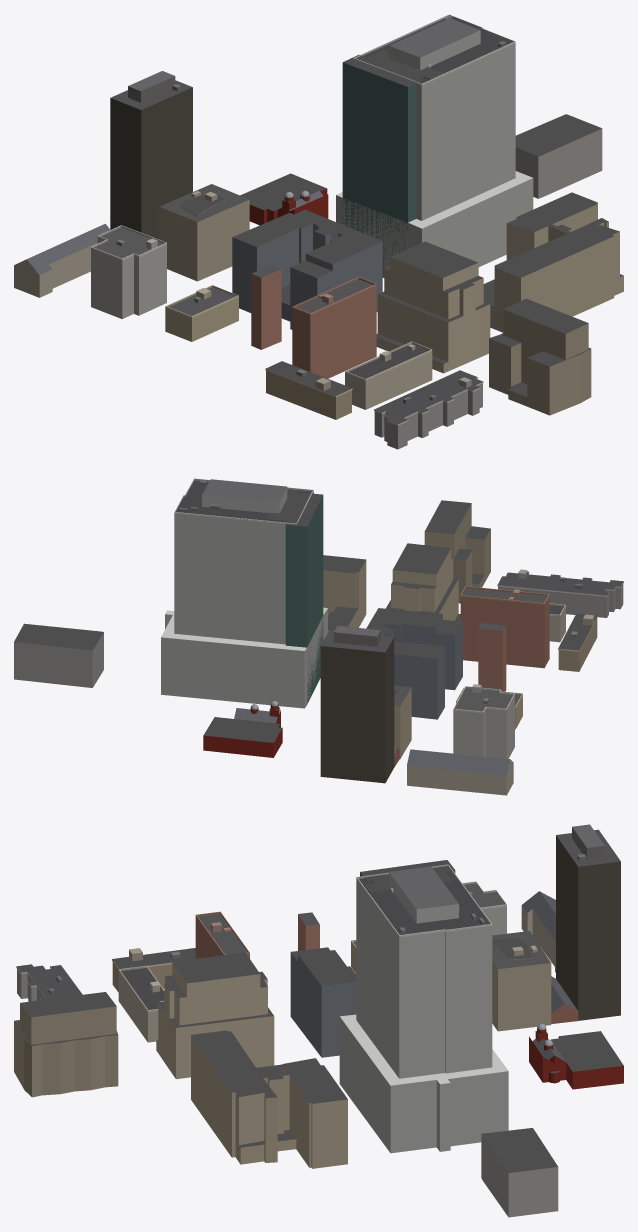
Rendered from 5_1.bld.glb.
3 renders of one model, top to bottom at view 1: azimuth 30°, elevation 25°; view 2: azimuth 150°, elevation 25°; view 3: azimuth 270°, elevation 25°, orthographic. The views are drawn at different scales.
Parts seen in each view (by area): view 1: 5_1; view 2: 5_1; view 3: 5_1.
Boxes of the visible parts, x1,y1,x2,y2 form: 5_1: (14,14,623,449); 5_1: (14,478,623,795); 5_1: (14,824,623,1217).
Size of the model in its own units: 298 by 108 by 266.
